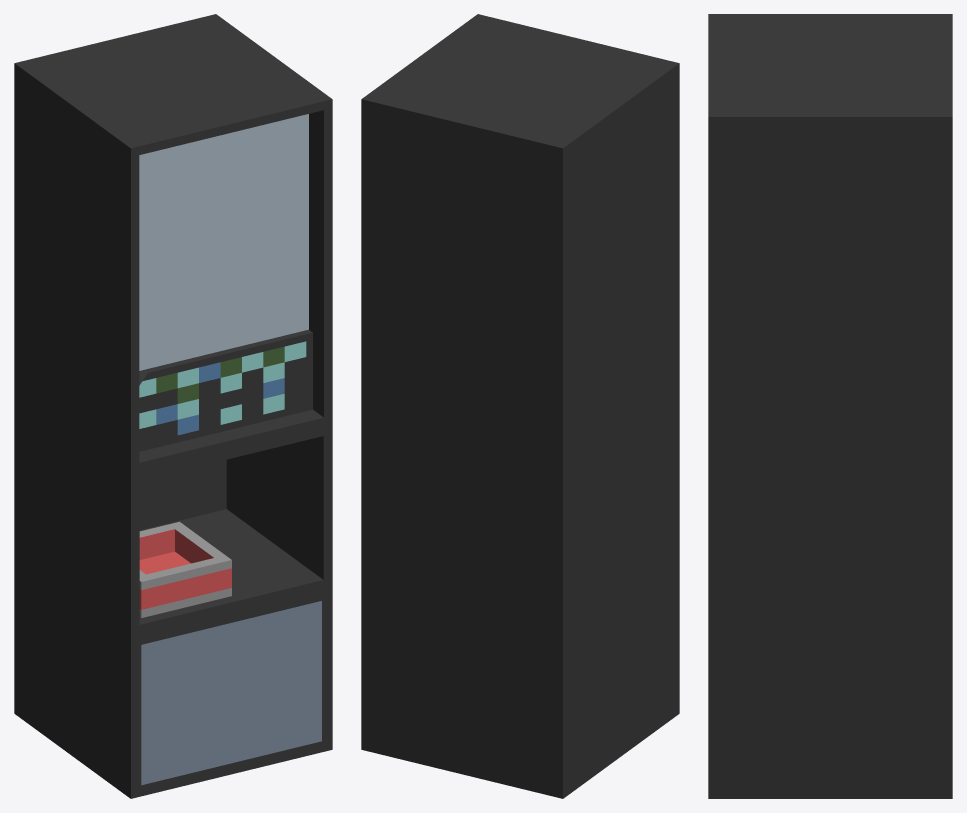
Rendered from MonitorDeskVar2.fbx.
The picture shows the model from 3 angles, left to right: view 1: azimuth 30°, elevation 25°; view 2: azimuth 150°, elevation 25°; view 3: azimuth 270°, elevation 25°; orthographic projection. The views are drawn at different scales.
Parts seen in each view (by area): view 1: MonitorDeskVar2; view 2: MonitorDeskVar2; view 3: MonitorDeskVar2.
Boxes of the visible parts, x1,y1,x2,y2 form: MonitorDeskVar2: (14,14,332,798); MonitorDeskVar2: (361,14,679,798); MonitorDeskVar2: (708,14,952,798).
Bounding box in the file's own units: 200 × 617 × 200.
